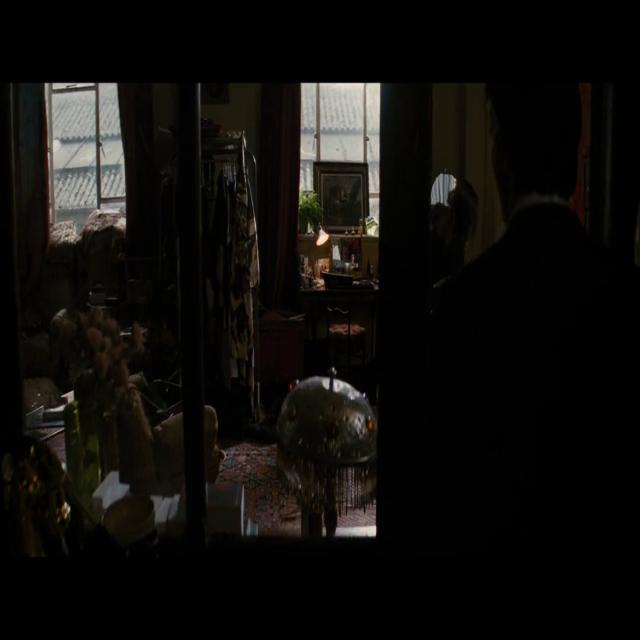Cup: (59, 384, 113, 544)
People: (471, 52, 640, 639)
